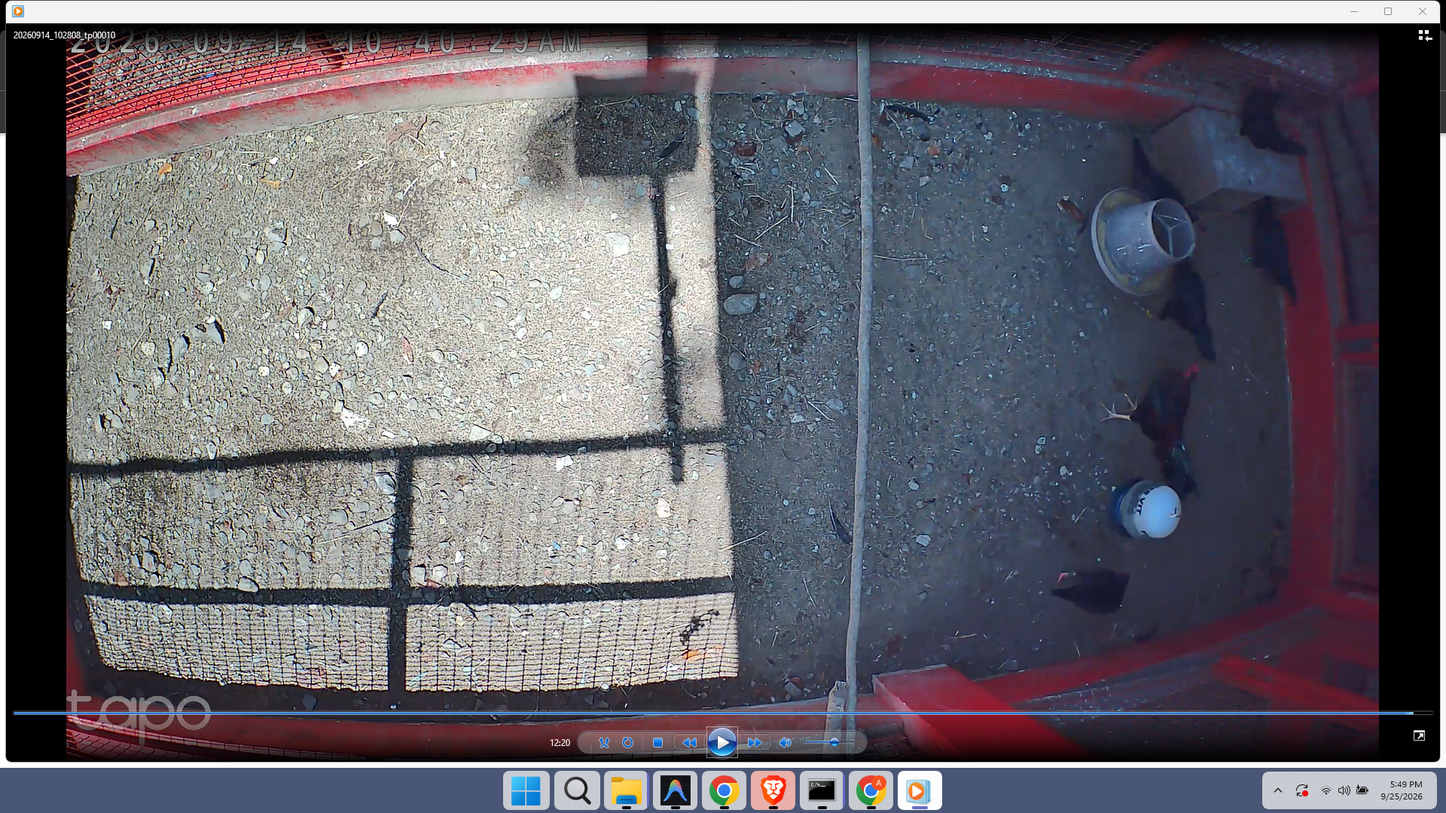Chicken: (1145, 262, 1219, 368), (1235, 79, 1311, 166), (1244, 197, 1303, 308), (1128, 135, 1187, 209), (1052, 564, 1134, 616)
Drinker: (1106, 476, 1187, 544)
Feeder: (1091, 182, 1198, 296)
Leg_Band_Green: (1246, 257, 1253, 262)
Leg_Band_Pink: (1057, 573, 1065, 583)
Leg_Band_Yellow: (1147, 309, 1154, 317)
Rooster: (1102, 359, 1205, 491)
